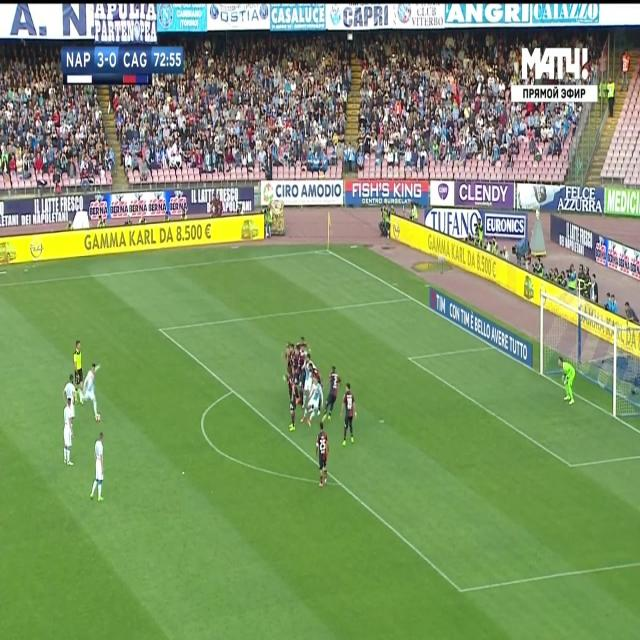Ball: (95, 411, 103, 425)
Goalkeeper: (556, 357, 578, 408)
Player: (298, 374, 322, 432), (88, 432, 106, 504), (76, 361, 102, 410), (340, 381, 358, 448), (314, 418, 330, 489), (323, 364, 341, 420), (61, 397, 74, 467), (286, 368, 297, 432), (61, 373, 77, 402)
Referee: (72, 338, 85, 398)
